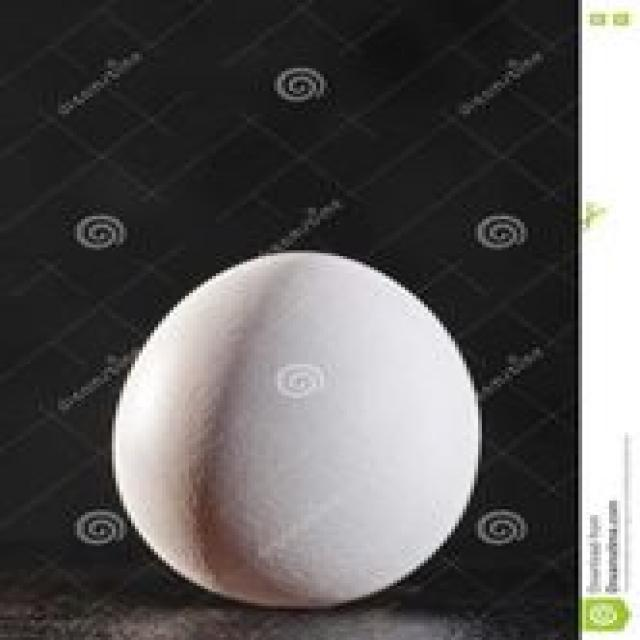Egg: (121, 229, 493, 616)
